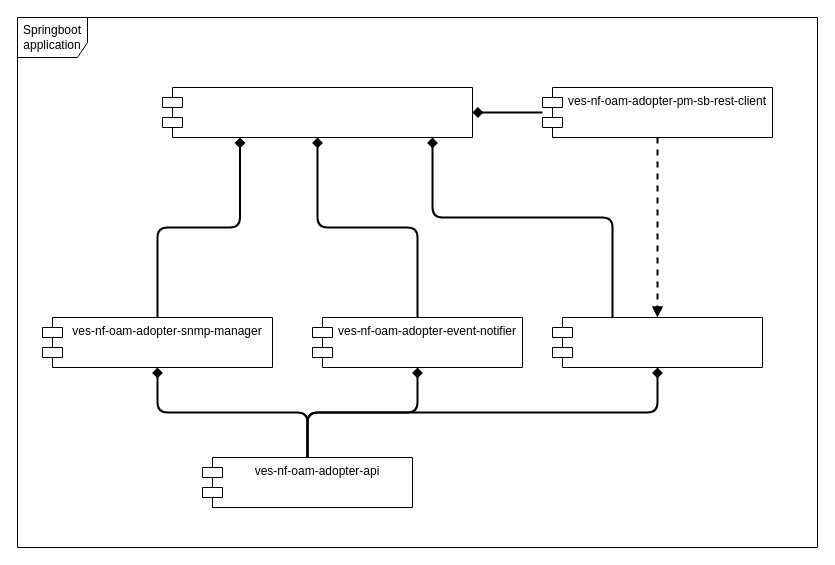
This 835x565 diagram has some shape labels left out. The shapes that lost their labels are listed below. From the top down, each one's centre as x and y in pixels, then its label:
At (317,112): "ves-nf-oam-adopter-app".
At (657,342): "ves-nf-oam-adopter-pm-manager".
